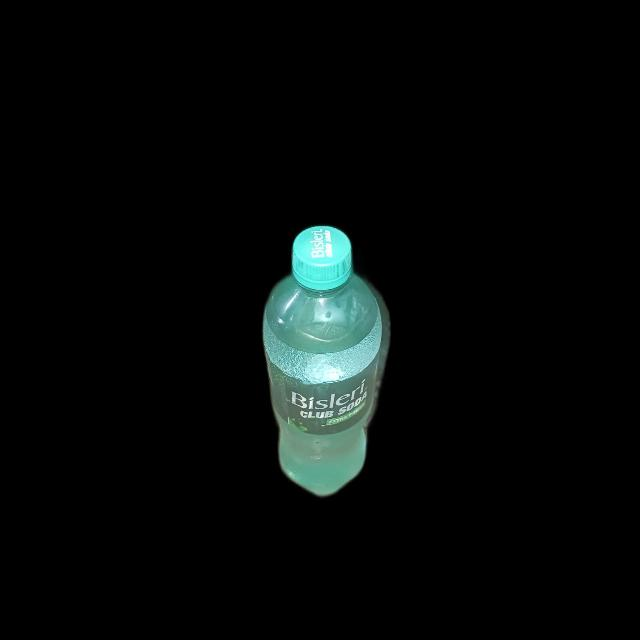Bisleri Club Soda - 750 ml: (264, 228, 382, 500)
